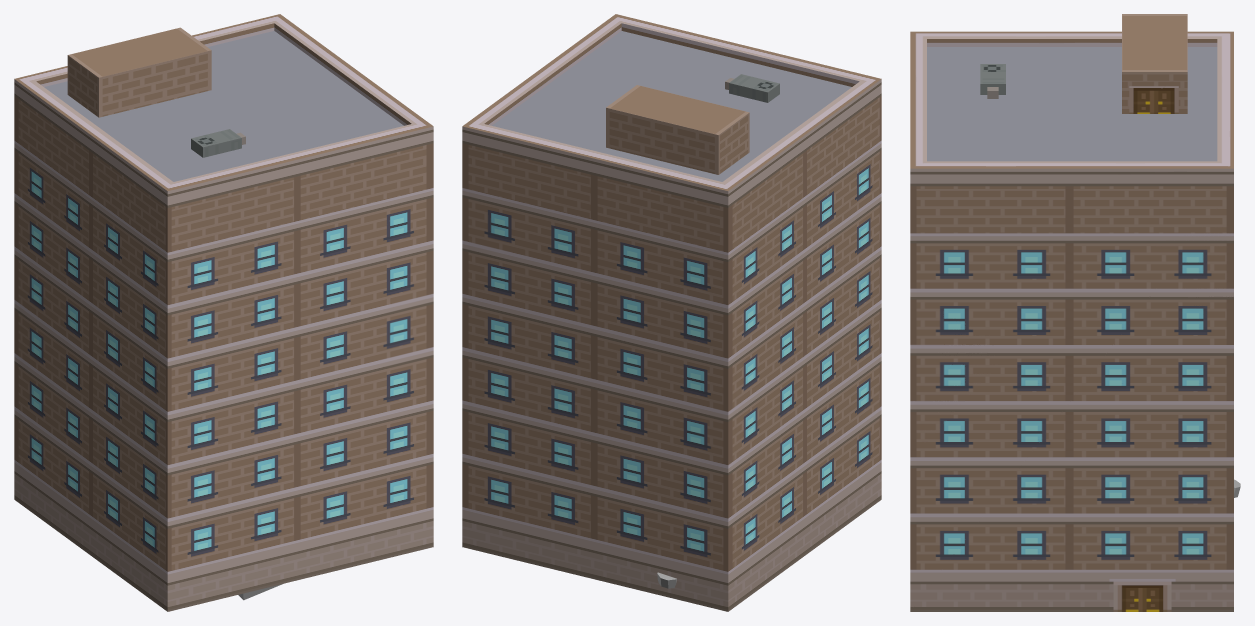
The model's file is Building1Test.fbx.
3 views of the same model, side by side, from view 1: azimuth 30°, elevation 25°; view 2: azimuth 150°, elevation 25°; view 3: azimuth 270°, elevation 25° (orthographic). The views are drawn at different scales.
Visible parts, largest first — view 1: Building, RoofDetails, Fragment4, Fragment2, Fragment1; view 2: Building, RoofDetails, Fragment2, Fragment3; view 3: Building, RoofDetails, Fragment4, Fragment3.
Part boxes in pixels (x1,y1,x2,y2): Building: (14,14,433,611); RoofDetails: (67,27,245,157); Fragment4: (379,263,433,377); Fragment2: (14,274,43,379); Fragment1: (153,491,181,533); Building: (462,14,881,611); RoofDetails: (606,74,779,174); Fragment2: (694,381,757,464); Fragment3: (462,177,509,256); Building: (910,31,1233,611); RoofDetails: (980,14,1187,113); Fragment4: (910,301,998,442); Fragment3: (1154,222,1233,314).
Size of the model in its own units: 1.46 by 2.46 by 1.49.
